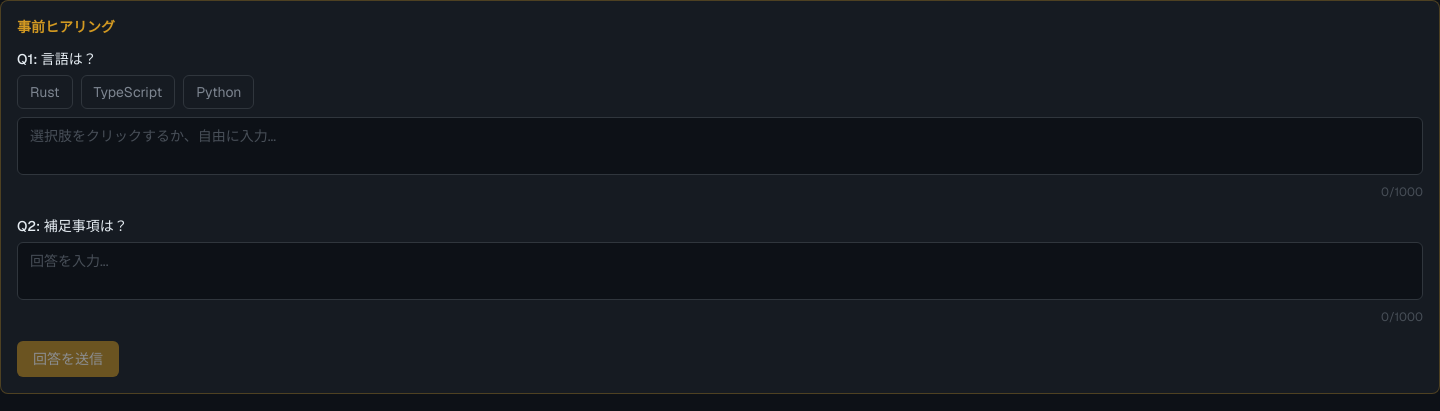
HearingPanel › ボタンクリックで textarea に値がセットされる
Step 1. Click the button "Rust" → [45, 92], box x1=17 y1=75 x2=72 y2=109
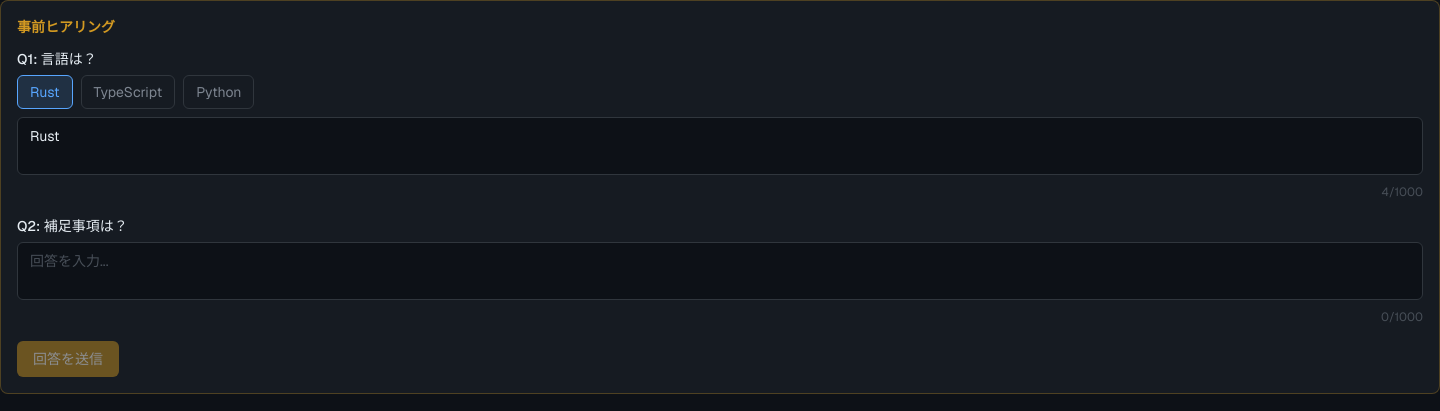
Now the 1st text box holds "Rust", box x1=17 y1=117 x2=1423 y2=175
